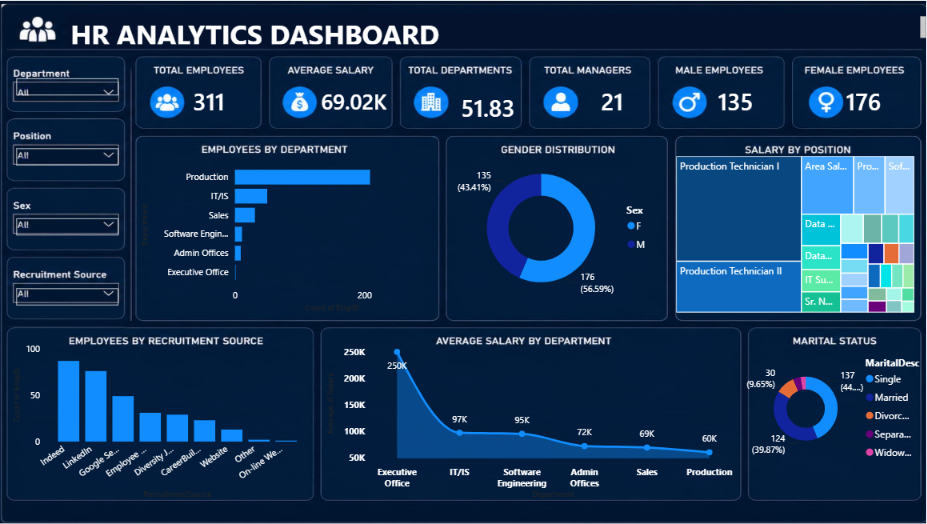

What the dashboard file says about the page in this screenshot:
{"tool":"powerbi","page":{"name":"Page 2","canvas":[1280,720],"ordinal":1},"visuals":[{"type":"clusteredBarChart","fields":{"Y":["CountNonNull(HRDataset.EmpID)"],"Category":["HRDataset.Department"]},"box":[192,208,416,224],"z":0},{"type":"donutChart","fields":{"Category":["HRDataset.Sex"],"Y":["CountNonNull(HRDataset.EmpID)"]},"box":[624,192,288,240],"z":1000},{"type":"treemap","fields":{"Values":["Sum(HRDataset.Salary)"],"Group":["HRDataset.Position"]},"box":[928,208,336,224],"z":2000},{"type":"clusteredColumnChart","fields":{"Category":["HRDataset.RecruitmentSource"],"Y":["CountNonNull(HRDataset.EmpID)"]},"box":[16,464,416,224],"z":3000},{"type":"cardVisual","fields":{"Data":["HRDataset.Total Employees"]},"box":[240,96,128,80],"z":4000},{"type":"lineChart","fields":{"Category":["HRDataset.Department"],"Y":["Avg(HRDataset.Salary)"]},"box":[448,464,576,224],"z":5000},{"type":"donutChart","fields":{"Y":["CountNonNull(HRDataset.MaritalDesc)"],"Category":["HRDataset.MaritalDesc"]},"box":[1024,416,256,288],"z":6000},{"type":"cardVisual","fields":{"Data":["HRDataset.Average Salary"]},"box":[416,96,160,80],"z":7000},{"type":"slicer","fields":{"Values":["HRDataset.RecruitmentSource"]},"box":[16,384,160,48],"z":8000},{"type":"slicer","fields":{"Values":["HRDataset.Department"]},"box":[16,96,160,80],"z":9000},{"type":"slicer","fields":{"Values":["HRDataset.Sex"]},"box":[16,288,160,48],"z":10000},{"type":"slicer","fields":{"Values":["HRDataset.Position"]},"box":[16,192,160,64],"z":11000},{"type":"cardVisual","fields":{"Data":["HRDataset.Employees per Department"]},"box":[608,112,144,64],"z":12000},{"type":"cardVisual","fields":{"Data":["HRDataset.Total Managers"]},"box":[800,96,112,80],"z":13000},{"type":"cardVisual","fields":{"Data":["HRDataset.Male Employees"]},"box":[960,96,144,80],"z":14000},{"type":"cardVisual","fields":{"Data":["HRDataset.Female Employees"]},"box":[1136,96,144,80],"z":15000},{"type":"textbox","box":[96,16,1184,48],"z":16000}]}

Visuals, with their boxes in screenshot pixels (x1, y1, x2, y2), scaled from the page's 1280x720 canvas onto the 927x524 screenshot:
clusteredBarChart - CountNonNull(HRDataset.EmpID) x HRDataset.Department: (139,151,440,314)
donutChart - HRDataset.Sex x CountNonNull(HRDataset.EmpID): (452,140,660,314)
treemap - Sum(HRDataset.Salary) x HRDataset.Position: (672,151,915,314)
clusteredColumnChart - HRDataset.RecruitmentSource x CountNonNull(HRDataset.EmpID): (12,338,313,501)
cardVisual - HRDataset.Total Employees: (174,70,267,128)
lineChart - HRDataset.Department x Avg(HRDataset.Salary): (324,338,742,501)
donutChart - CountNonNull(HRDataset.MaritalDesc) x HRDataset.MaritalDesc: (742,303,926,512)
cardVisual - HRDataset.Average Salary: (301,70,417,128)
slicer - HRDataset.RecruitmentSource: (12,279,127,314)
slicer - HRDataset.Department: (12,70,127,128)
slicer - HRDataset.Sex: (12,210,127,245)
slicer - HRDataset.Position: (12,140,127,186)
cardVisual - HRDataset.Employees per Department: (440,82,545,128)
cardVisual - HRDataset.Total Managers: (579,70,660,128)
cardVisual - HRDataset.Male Employees: (695,70,800,128)
cardVisual - HRDataset.Female Employees: (823,70,926,128)
textbox: (70,12,926,47)
